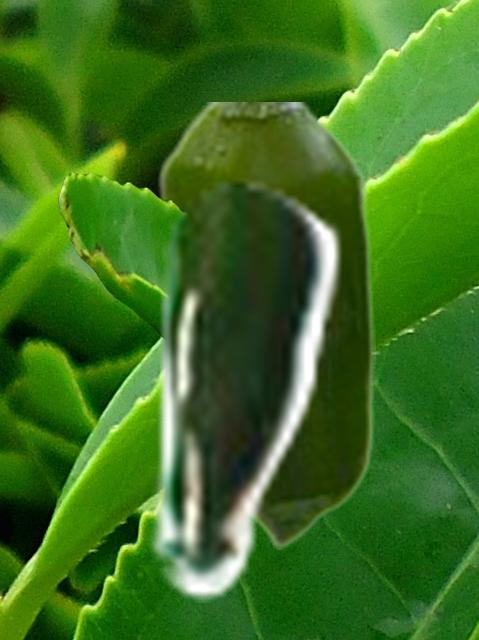green_chili: (155, 102, 374, 548), (140, 175, 344, 601)
